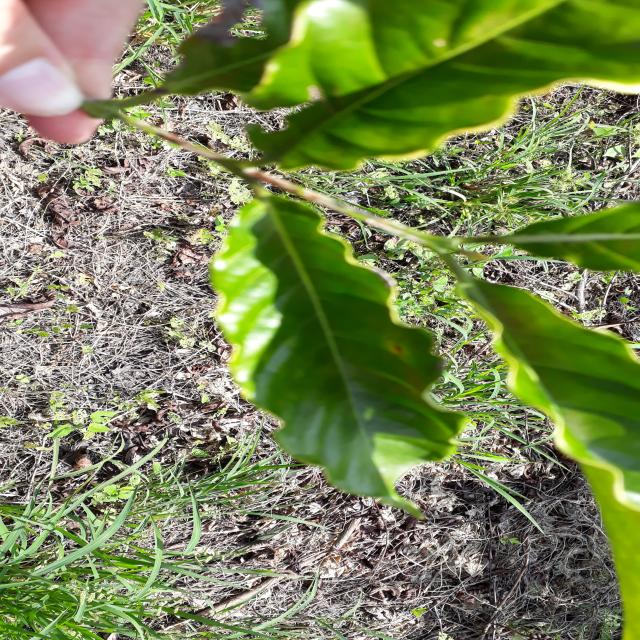Enfermedad-Roya: (208, 194, 470, 520)
